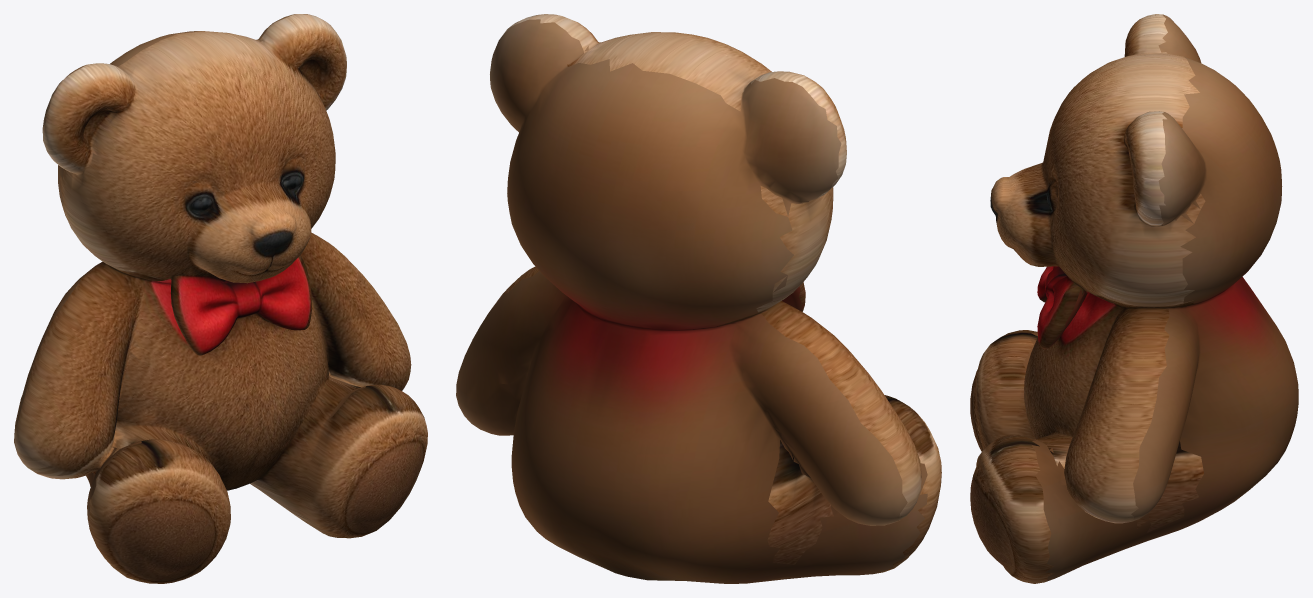
The model's file is teddy.glb.
3 renders of one model, left to right at view 1: azimuth 30°, elevation 25°; view 2: azimuth 150°, elevation 25°; view 3: azimuth 270°, elevation 25°, orthographic. The views are drawn at different scales.
Visible parts, largest first — view 1: teddy; view 2: teddy; view 3: teddy.
Part boxes in pixels (x1=…): teddy: x1=14, y1=14, x2=427, y2=583; teddy: x1=456, y1=14, x2=941, y2=583; teddy: x1=970, y1=14, x2=1298, y2=583.
Bounding box in the file's own units: 11 × 12.76 × 8.23.
Materials: 1 (1 with a texture image).
